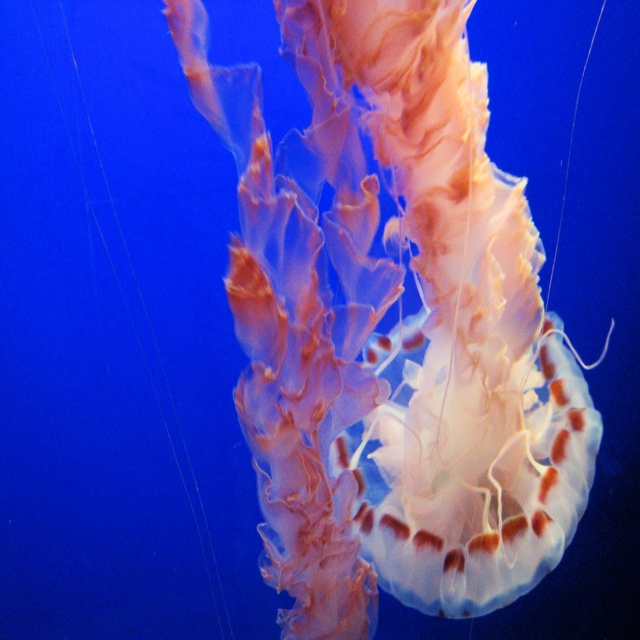Jellyfish: (158, 0, 617, 639)
